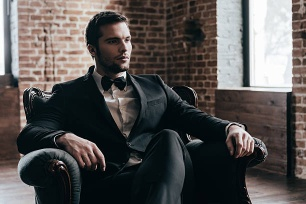male: (84, 9, 136, 76)
